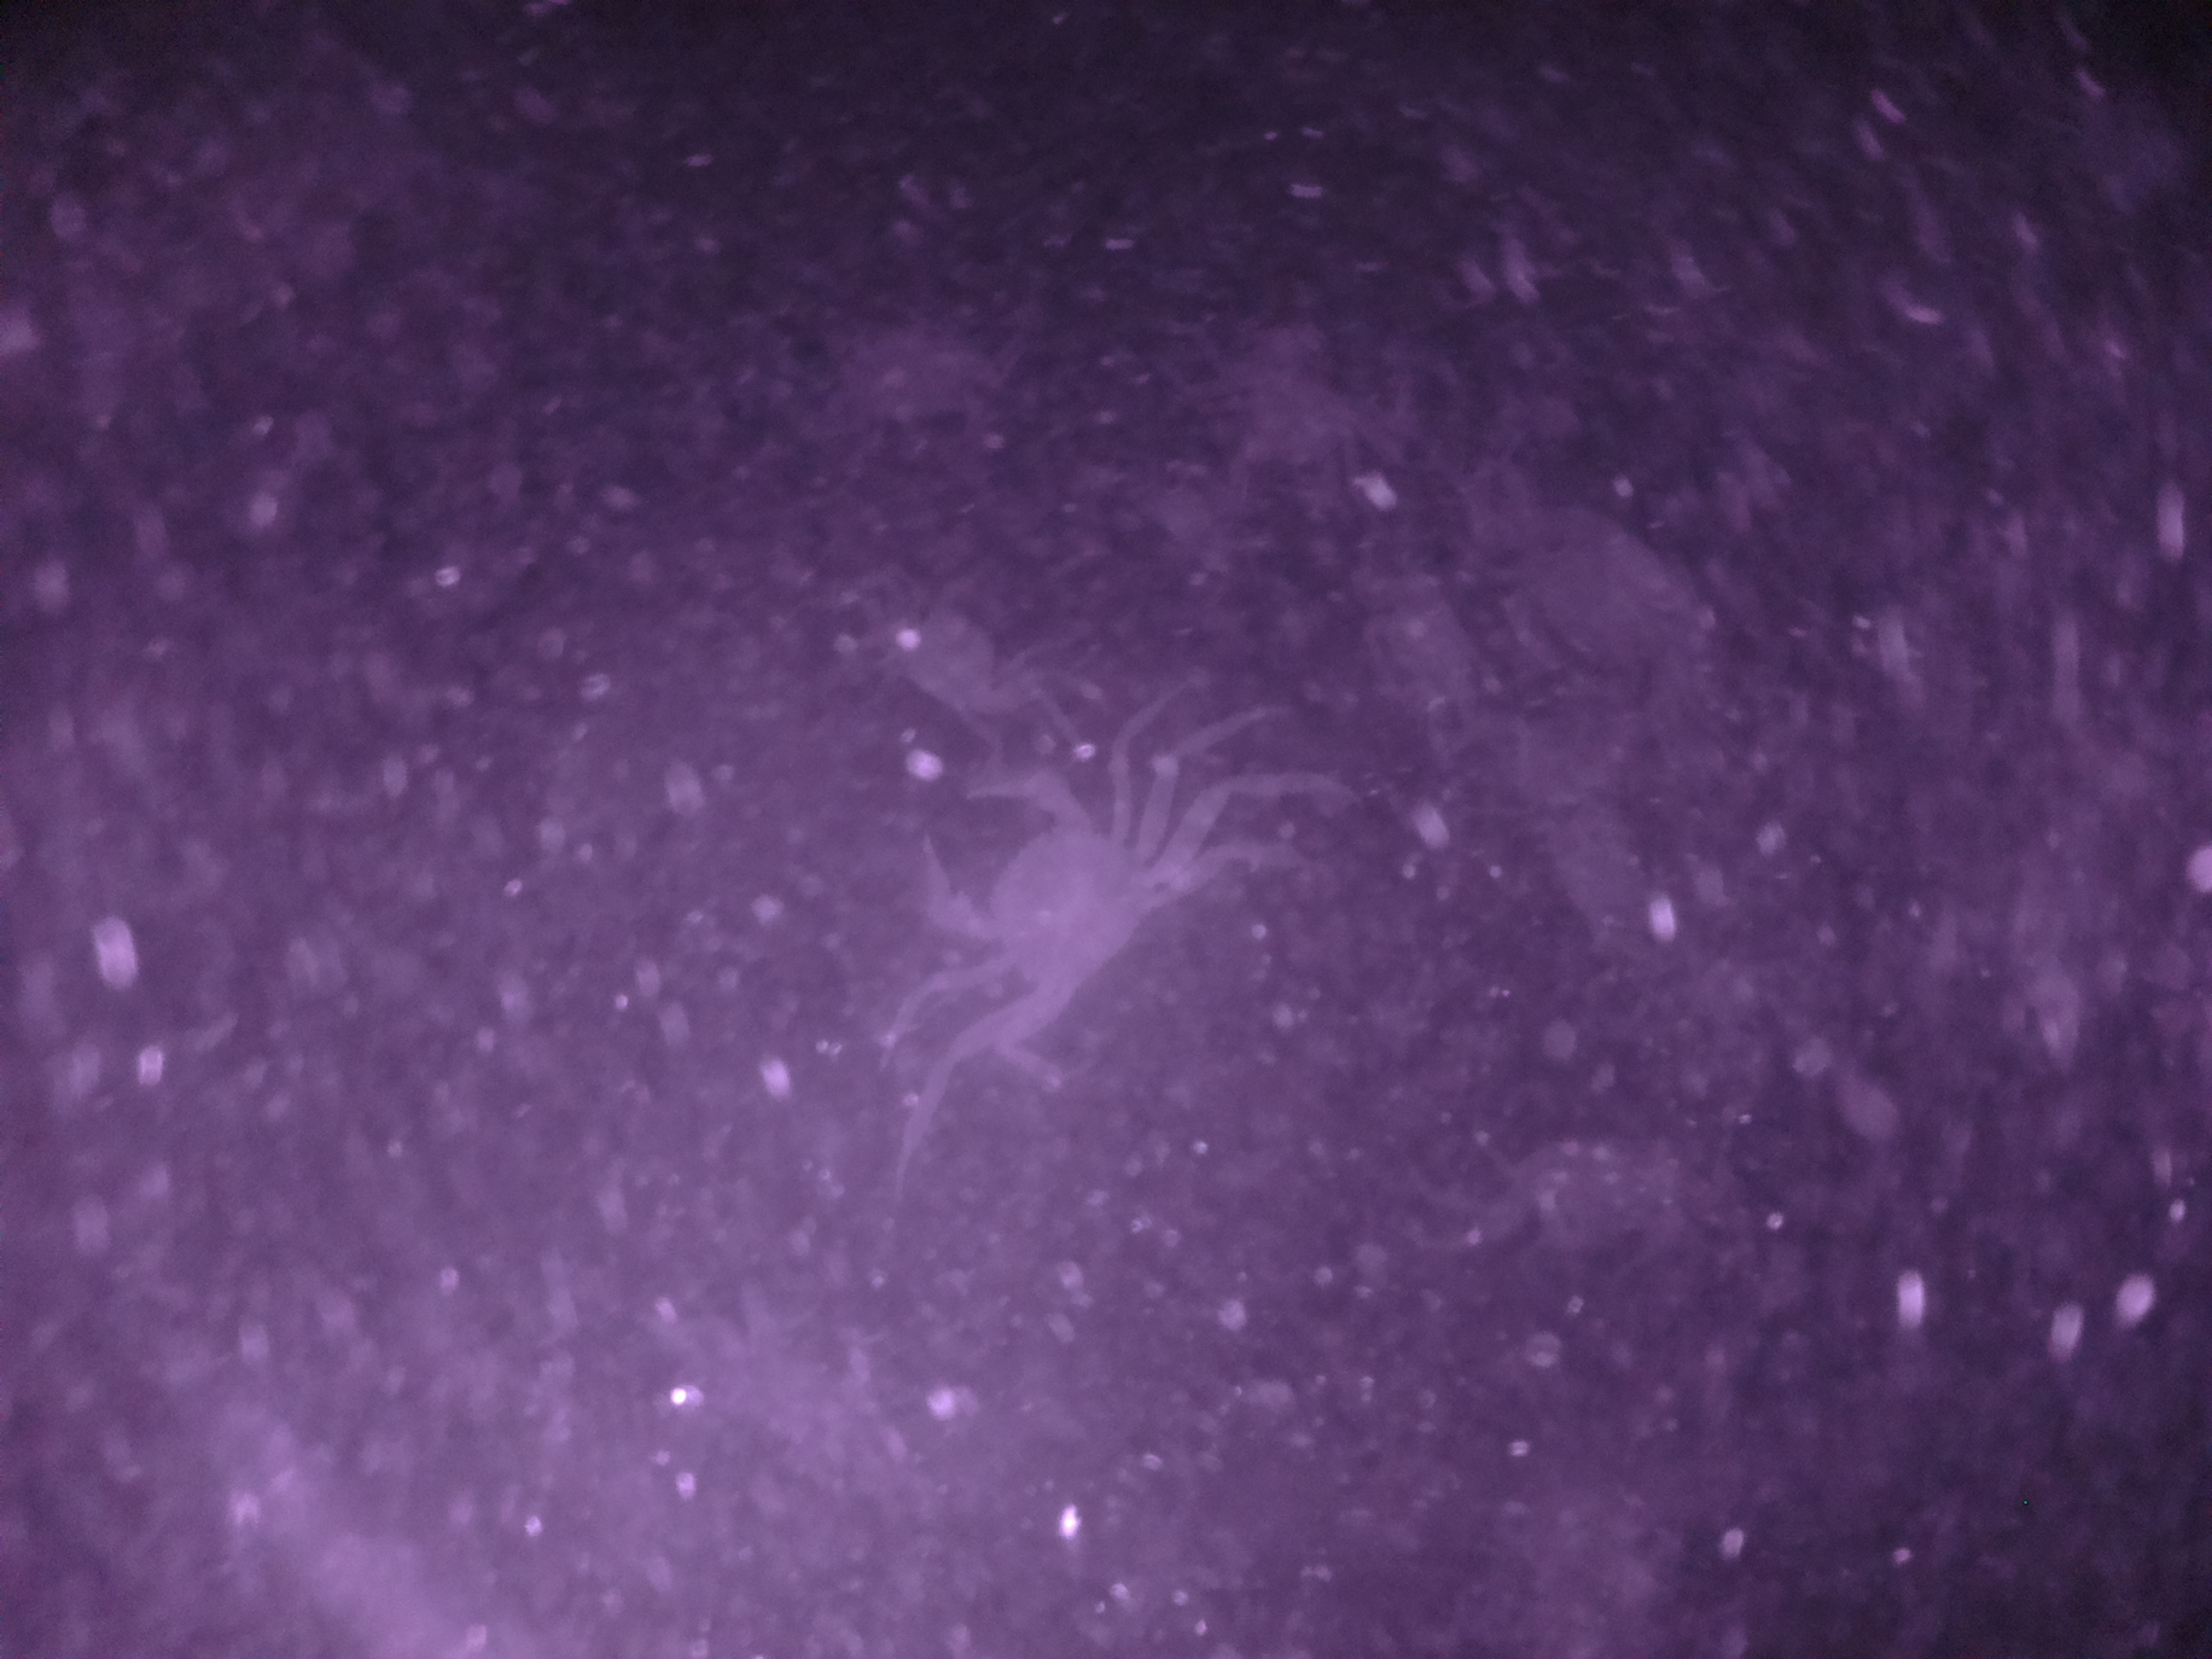Crab: (894, 744, 1216, 1039)
